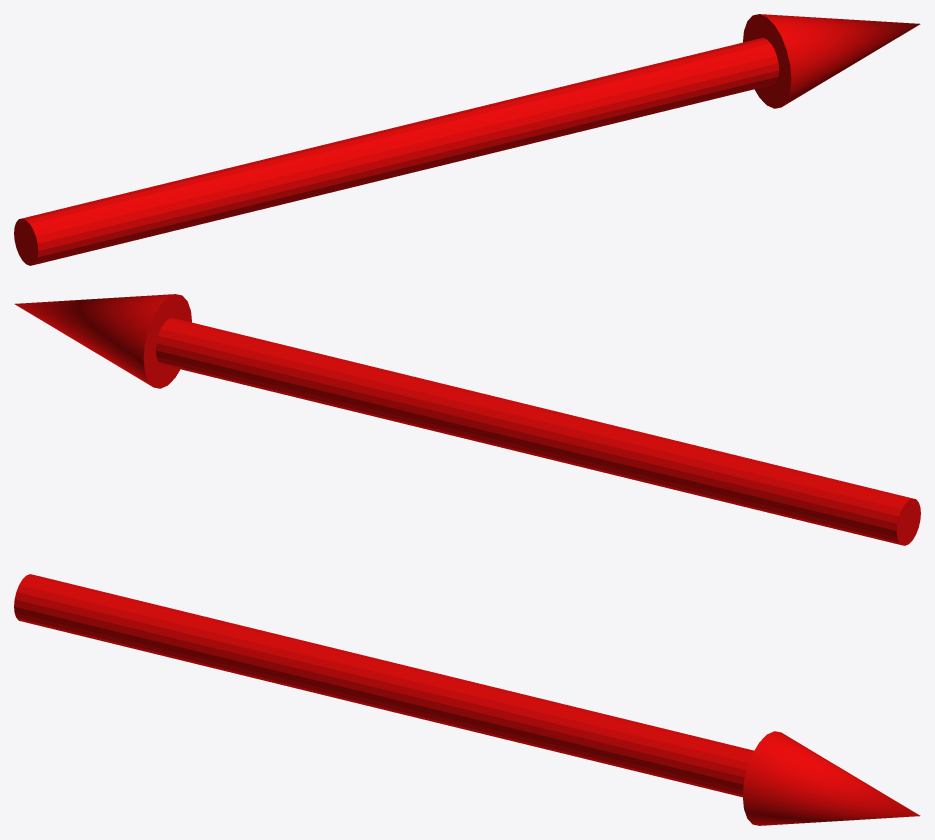
The model's file is arrowR.fbx.
The picture shows the model from 3 angles, top to bottom: view 1: azimuth 30°, elevation 25°; view 2: azimuth 150°, elevation 25°; view 3: azimuth 330°, elevation 25°; orthographic projection.
Parts seen in each view (by area): view 1: pCone1; view 2: pCone1; view 3: pCone1.
Boxes of the visible parts, box(x1,y1,x2,y2) form: pCone1: box(14, 14, 920, 265); pCone1: box(14, 294, 920, 545); pCone1: box(14, 574, 920, 825).
Size of the model in its own units: 6.42 by 0.6034 by 0.6034.
